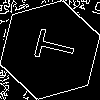T: (25, 25, 77, 66)
